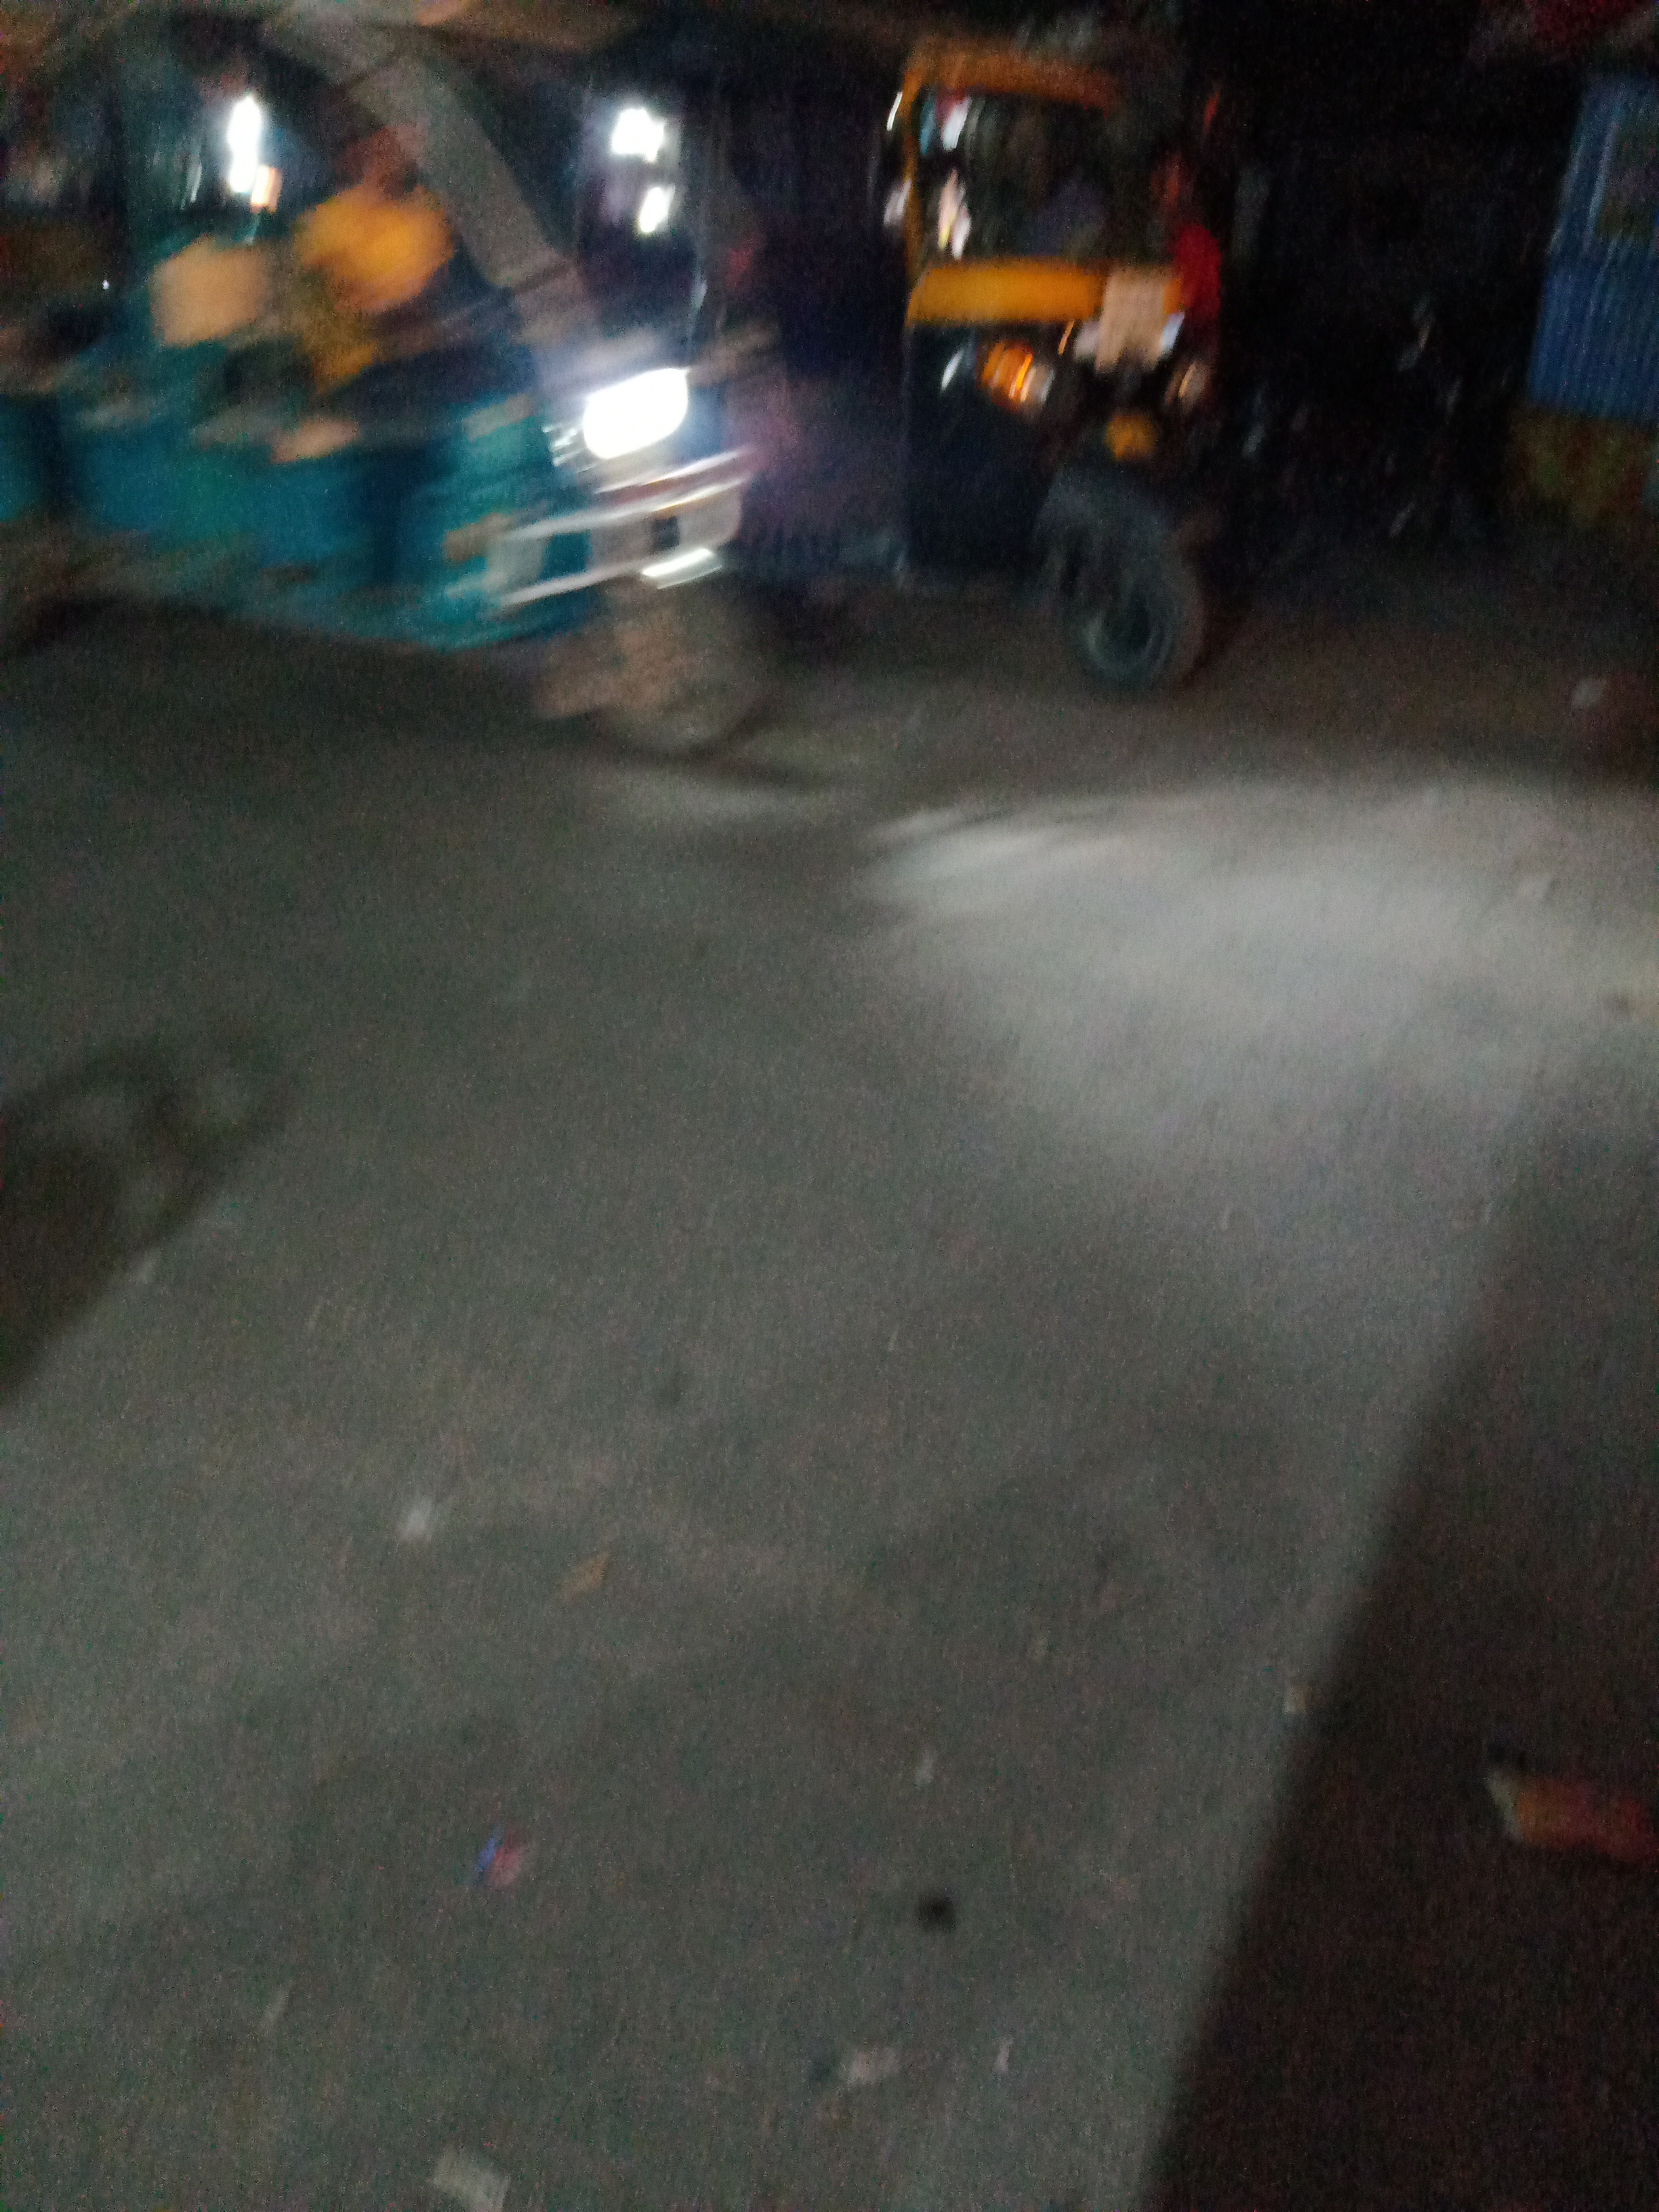auto: (0, 3, 803, 761), (648, 19, 1229, 690)
